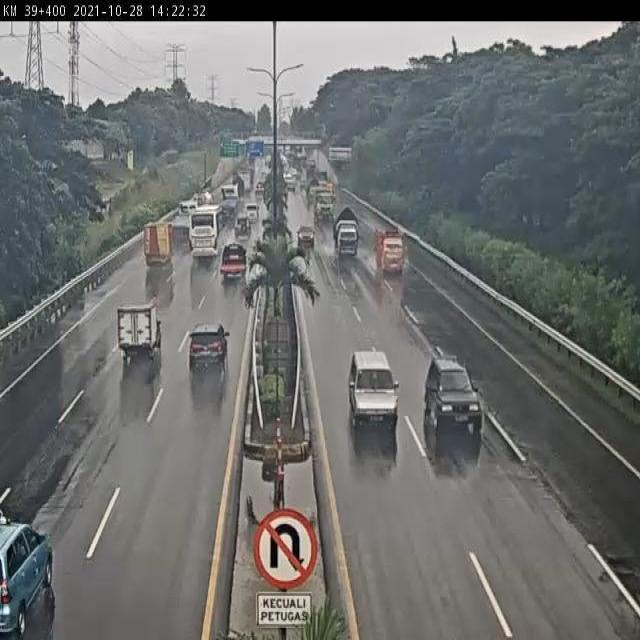bus-l-: (185, 206, 226, 258)
car: (0, 512, 59, 635), (425, 361, 483, 428), (350, 353, 397, 432), (116, 304, 161, 359), (189, 324, 227, 369), (296, 221, 317, 251), (235, 218, 252, 238), (246, 201, 259, 223)
truck-l-: (168, 194, 205, 230), (214, 182, 238, 222), (311, 186, 335, 226)
truck-s-: (377, 227, 409, 276), (335, 208, 360, 257), (144, 220, 170, 265), (218, 242, 246, 282)
